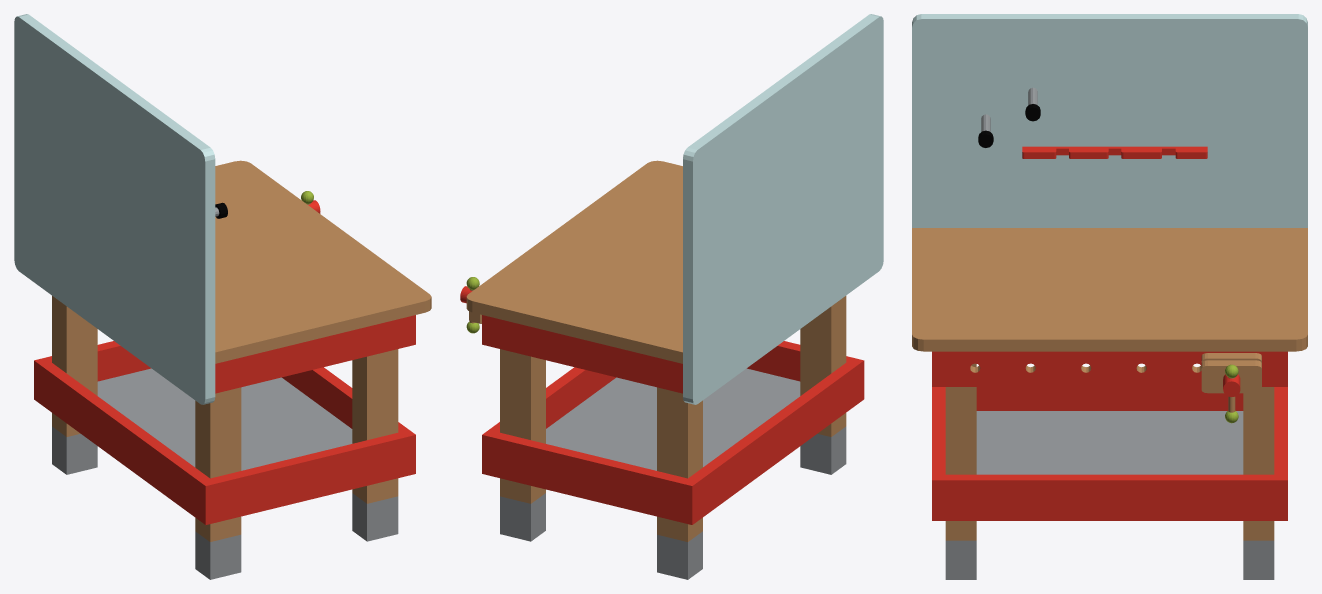
File: workbench.fbx
The picture shows the model from 3 angles, left to right: view 1: azimuth 30°, elevation 25°; view 2: azimuth 150°, elevation 25°; view 3: azimuth 270°, elevation 25°; orthographic projection. The views are drawn at different scales.
Parts seen in each view (by area): view 1: Board, Top, Bottom, Plank_Front.001, Plank_Side.001, Leg.002, Leg.003, Plank_Side.003, Leg.001, Plank_Front, Plank_Side; view 2: Board, Top, Bottom, Plank_Front.001, Plank_Side, Leg, Leg.001, Plank_Side.002, Leg.003, Plank_Front, Plank_Side.001; view 3: Board, Top, Bottom, Plank_Front, Plank_Front.002, Plank_Front.001, Leg.002, Leg, Lathe, Support, Plank_Side, Plank_Side.001.
Part boxes in pixels (x1,y1,x2,y2): Board: (14, 14, 215, 404); Top: (215, 160, 431, 363); Bottom: (97, 368, 352, 470); Plank_Front.001: (34, 358, 216, 524); Plank_Side.001: (210, 433, 404, 522); Leg.002: (352, 349, 398, 541); Leg.003: (195, 387, 241, 579); Plank_Side.003: (217, 317, 404, 392); Leg.001: (52, 296, 97, 474); Plank_Front: (282, 367, 415, 476); Plank_Side: (45, 341, 151, 381); Board: (683, 14, 883, 404); Top: (466, 160, 682, 363); Bottom: (546, 368, 800, 470); Plank_Front.001: (681, 357, 864, 524); Plank_Side: (493, 432, 687, 522); Leg: (500, 349, 545, 541); Leg.001: (657, 387, 702, 579); Plank_Side.002: (493, 317, 681, 392); Leg.003: (800, 296, 846, 474); Plank_Front: (482, 367, 615, 476); Plank_Side.001: (747, 341, 852, 381); Board: (912, 14, 1307, 227); Top: (912, 228, 1307, 351); Bottom: (976, 411, 1243, 474); Plank_Front: (932, 474, 1287, 520); Plank_Front.002: (932, 351, 1287, 386); Plank_Front.001: (976, 387, 1243, 410); Leg.002: (945, 363, 976, 579); Leg: (1243, 387, 1274, 579); Lathe: (1201, 353, 1261, 423); Support: (1022, 146, 1207, 158); Plank_Side: (1274, 387, 1287, 474); Plank_Side.001: (932, 387, 945, 474).
Bounding box in the file's own units: 93.27 × 149 × 116.
1 material, 1 textured.
